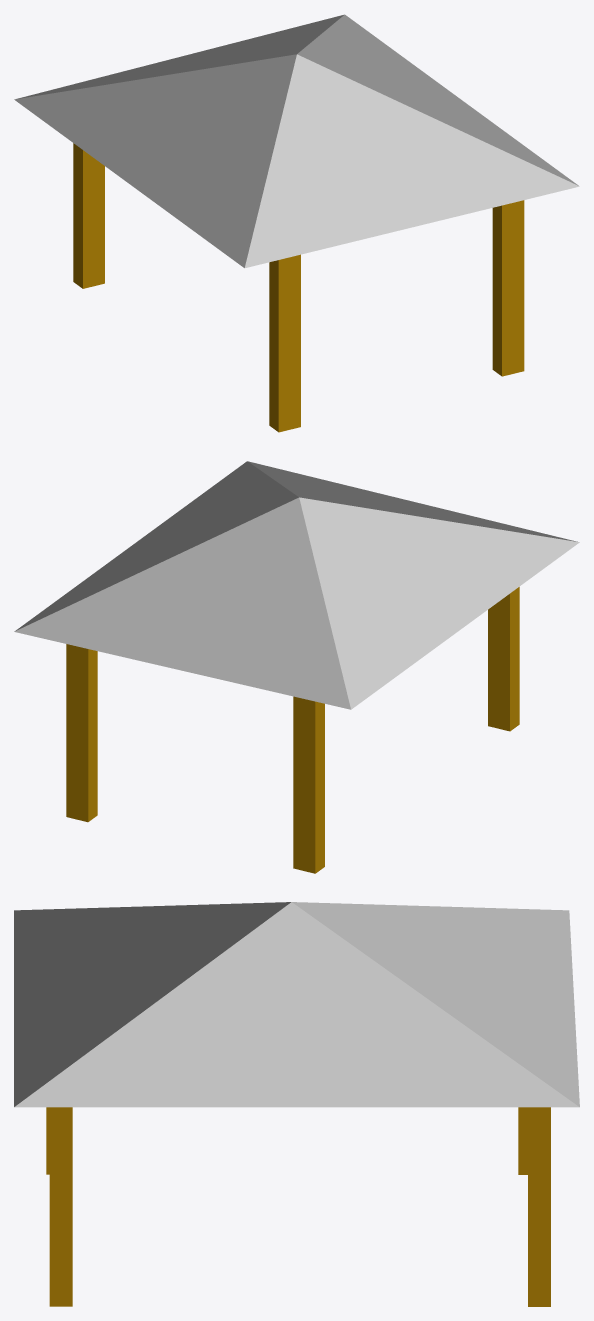
Rendered from Tent.glb.
The picture shows the model from 3 angles, top to bottom: view 1: azimuth 30°, elevation 25°; view 2: azimuth 150°, elevation 25°; view 3: azimuth 270°, elevation 25°; orthographic projection. The views are drawn at different scales.
Visible parts, largest first — view 1: Tent; view 2: Tent; view 3: Tent.
Boxes of the visible parts, bbox=[...] form: Tent: bbox=[14, 14, 579, 432]; Tent: bbox=[14, 461, 579, 873]; Tent: bbox=[14, 902, 579, 1306].
Size of the model in its own units: 4.79 by 3.74 by 5.82.
